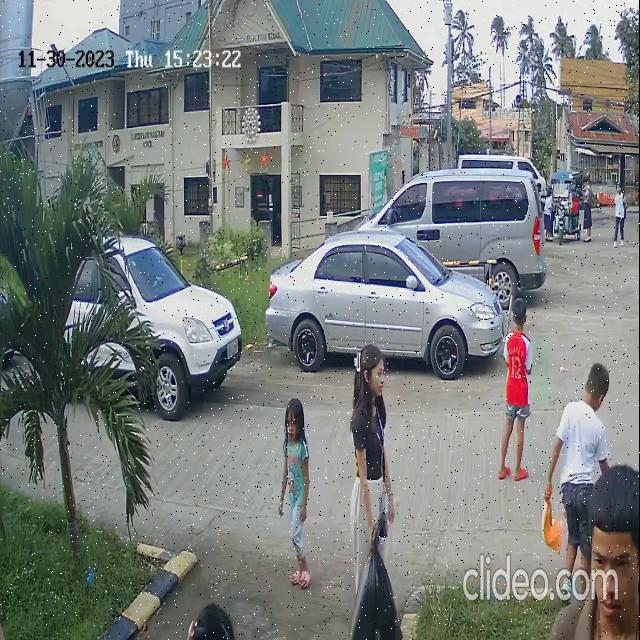garbage_dumping: (351, 521, 406, 640), (539, 498, 568, 562)
